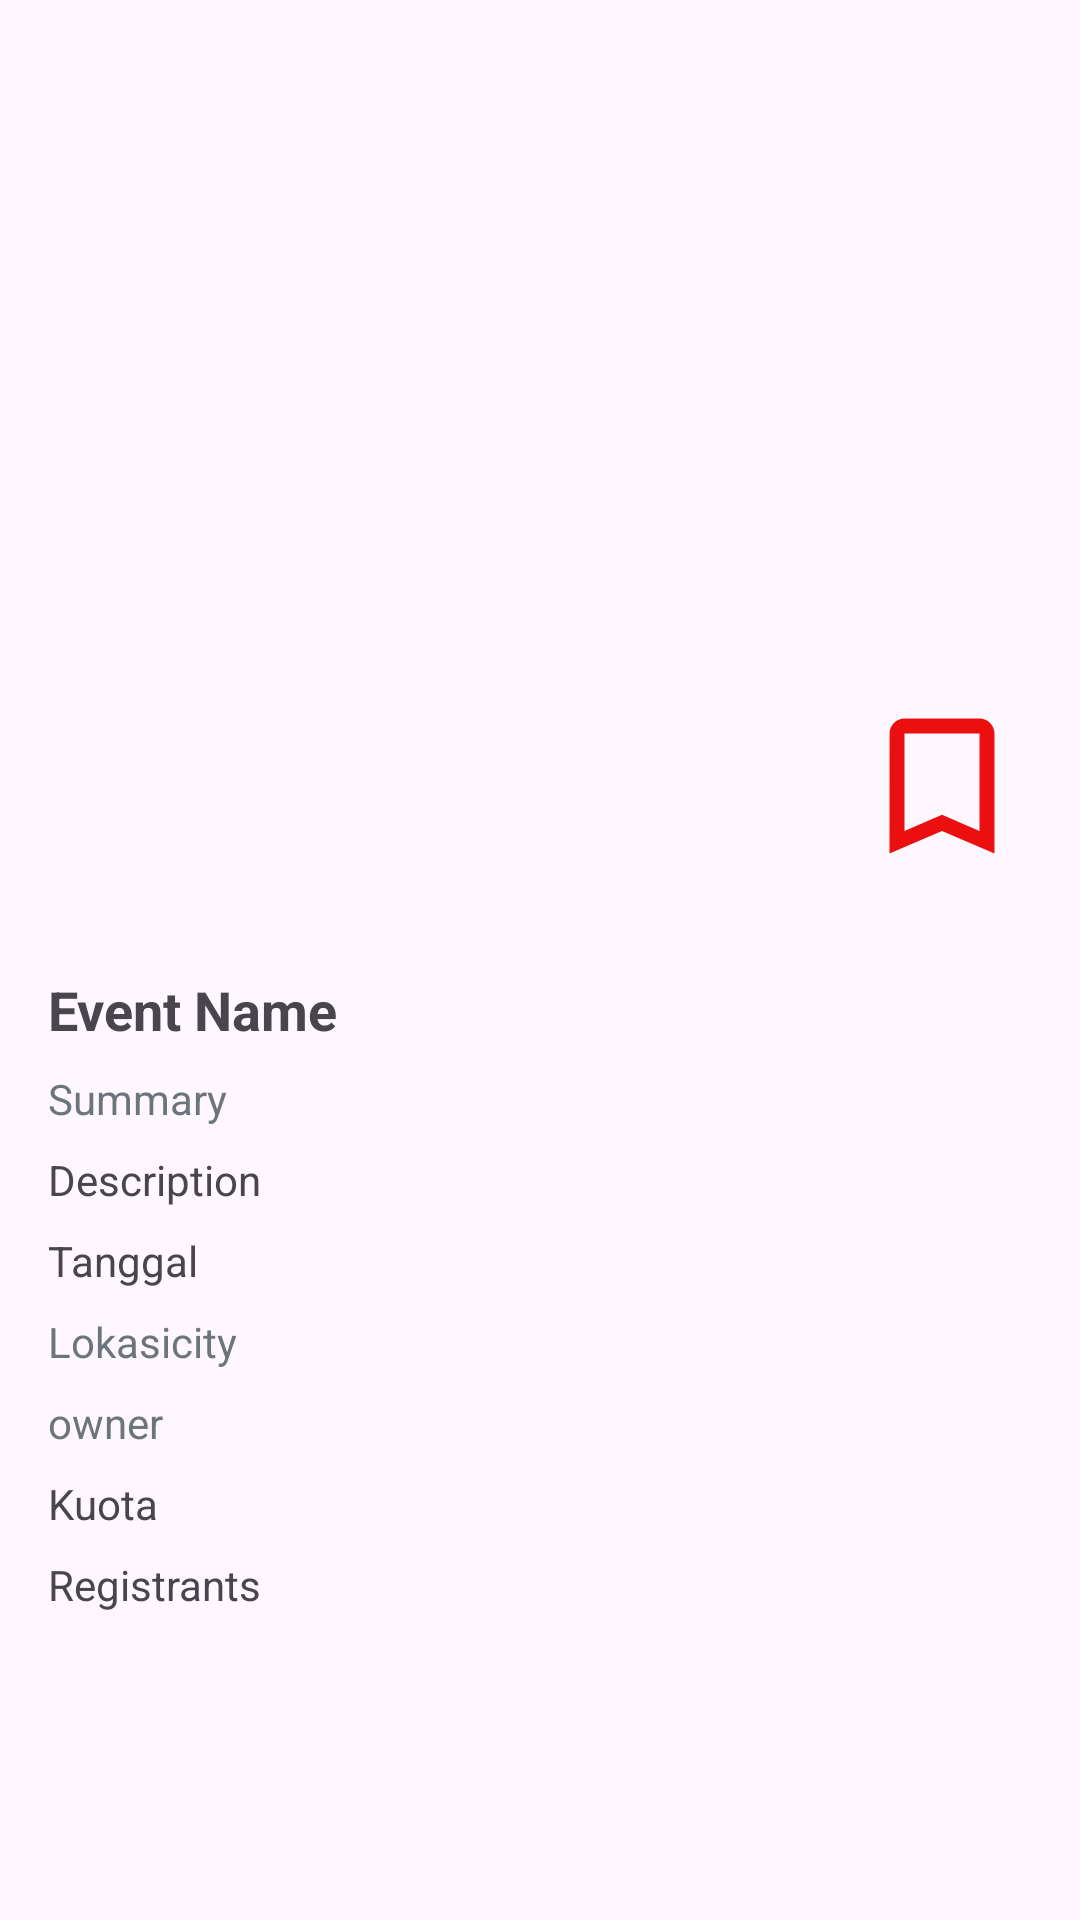

Named icons in this screenshot (1080px×1920px) and their bounding boxes, (x1, y1, x2, y2):
Save Bookmark?: (889, 718, 995, 854)
